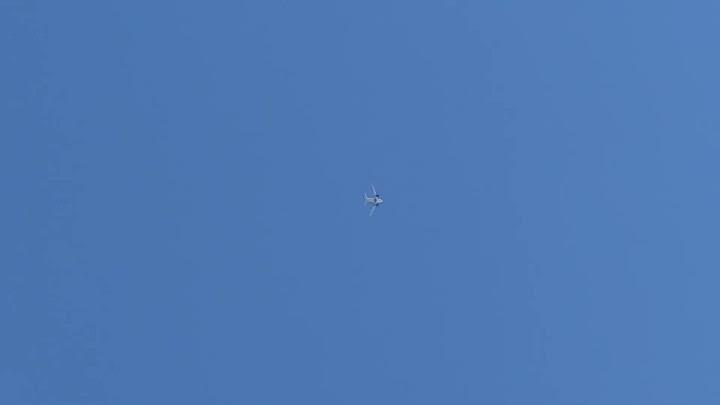Plane: (348, 181, 401, 221)
